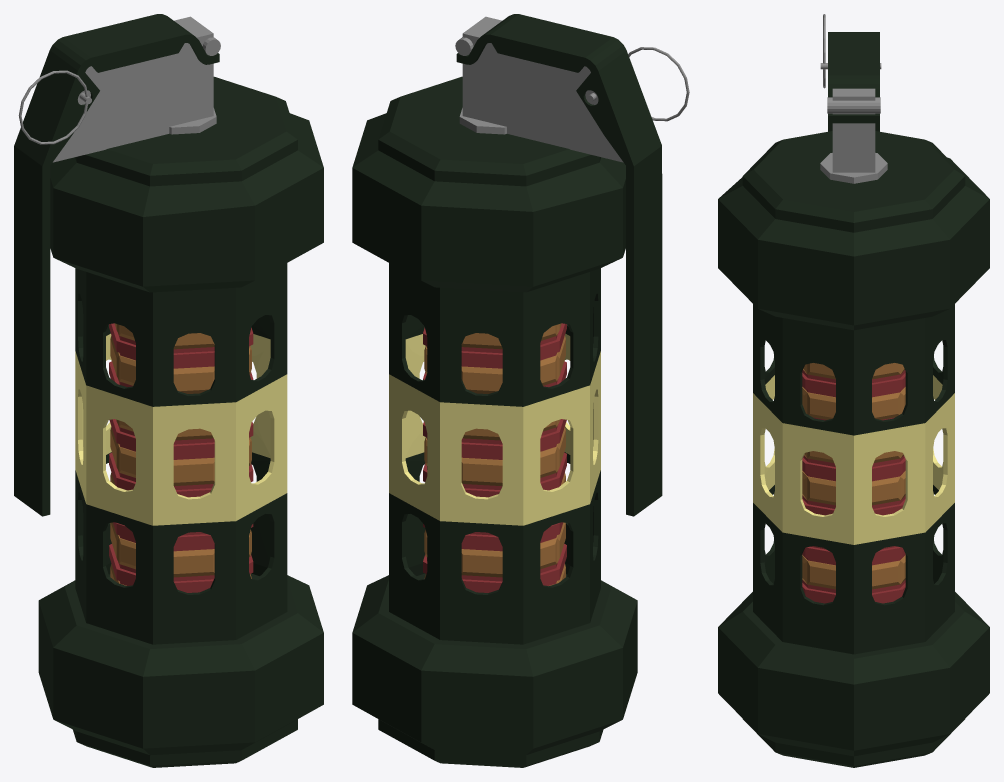
Rendered from Stun Grenade.fbx.
3 renders of one model, left to right at view 1: azimuth 30°, elevation 25°; view 2: azimuth 150°, elevation 25°; view 3: azimuth 270°, elevation 25°, orthographic. The views are drawn at different scales.
Parts seen in each view (by area): view 1: Stun Grenade, Stun - Handle, Stun - Inner detail, Stun - Top, Stun - Pin; view 2: Stun Grenade, Stun - Handle, Stun - Inner detail, Stun - Top; view 3: Stun Grenade, Stun - Inner detail, Stun - Top, Stun - Handle.
Boxes of the visible parts, x1,y1,x2,y2 form: Stun Grenade: (38, 76, 323, 767); Stun - Handle: (14, 14, 219, 516); Stun - Inner detail: (109, 323, 253, 592); Stun - Top: (53, 16, 220, 162); Stun - Pin: (18, 70, 91, 144); Stun Grenade: (352, 76, 637, 767); Stun - Handle: (456, 14, 662, 516); Stun - Inner detail: (423, 323, 566, 592); Stun - Top: (455, 16, 623, 162); Stun Grenade: (718, 131, 989, 767); Stun - Inner detail: (802, 363, 905, 603); Stun - Top: (820, 88, 887, 183); Stun - Handle: (828, 32, 879, 131).
Bounding box in the file's own units: 72.65 × 159 × 60.68.
